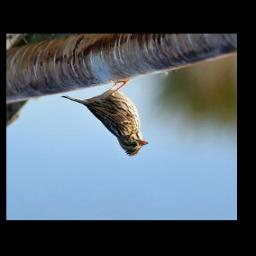Sparrow: (60, 79, 150, 158)
